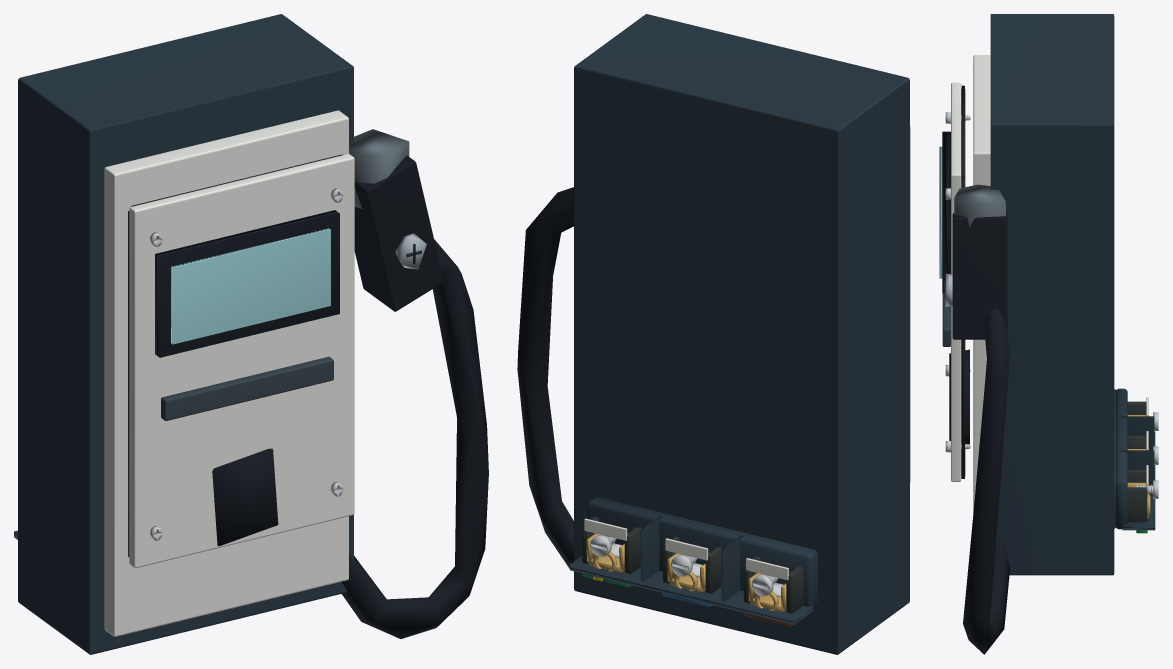
The picture shows the model from 3 angles, left to right: view 1: azimuth 30°, elevation 25°; view 2: azimuth 150°, elevation 25°; view 3: azimuth 270°, elevation 25°; orthographic projection. The views are drawn at different scales.
Parts seen in each view (by area): view 1: part:body, part:cover, part:display, part:body.001, part:body.002, detail:enclosure-gasket-and-fixings · Detail rubber gasket; view 2: part:body, part:body.001, part:terminals · Original a463fd81, detail:terminal-clamp:L · Detail moulded engineering polymer, detail:terminal-clamp:N · Detail moulded engineering polymer, detail:terminal-clamp:PE · Detail moulded engineering polyme, detail:terminal-clamp:N · Detail machined brass, detail:terminal-clamp:L · Detail machined brass, detail:terminal-clamp:PE · Detail machined brass, Moulded terminal legend pad.001, Moulded terminal legend pad.002, Moulded terminal legend pad; view 3: part:body, part:body.001, part:body.002, part:terminals · Original a463fd81, part:cover, part:display, detail:enclosure-gasket-and-fixings · Detail rubber gasket, detail:terminal-clamp:PE · Detail moulded engineering polyme, detail:enclosure-gasket-and-fixings · Detail zinc plated fix.
Part boxes in pixels (<box>): part:body: <box>18,14,353,654</box>; part:cover: <box>129,154,354,568</box>; part:display: <box>155,210,339,357</box>; part:body.001: <box>341,239,488,638</box>; part:body.002: <box>349,129,443,311</box>; detail:enclosure-gasket-and-fixings · Detail rubber gasket: <box>128,154,342,556</box>; part:body: <box>574,14,909,654</box>; part:body.001: <box>517,187,573,568</box>; part:terminals · Original a463fd81: <box>570,497,817,624</box>; detail:terminal-clamp:L · Detail moulded engineering polymer: <box>743,556,803,613</box>; detail:terminal-clamp:N · Detail moulded engineering polymer: <box>663,536,722,594</box>; detail:terminal-clamp:PE · Detail moulded engineering polyme: <box>582,516,641,574</box>; detail:terminal-clamp:N · Detail machined brass: <box>667,553,705,592</box>; detail:terminal-clamp:L · Detail machined brass: <box>748,573,786,611</box>; detail:terminal-clamp:PE · Detail machined brass: <box>586,533,624,572</box>; Moulded terminal legend pad.001: <box>665,538,708,560</box>; Moulded terminal legend pad.002: <box>584,518,627,540</box>; Moulded terminal legend pad: <box>746,558,788,580</box>; part:body: <box>949,14,1114,575</box>; part:body.001: <box>963,309,1009,654</box>; part:body.002: <box>945,184,1007,339</box>; part:terminals · Original a463fd81: <box>1114,388,1155,530</box>; part:cover: <box>942,82,961,481</box>; part:display: <box>939,131,950,293</box>; detail:enclosure-gasket-and-fixings · Detail rubber gasket: <box>961,85,965,478</box>; detail:terminal-clamp:PE · Detail moulded engineering polyme: <box>1127,469,1147,522</box>; detail:enclosure-gasket-and-fixings · Detail zinc plated fix: <box>945,112,970,452</box>.
Bounding box in the file's own units: 1.07 × 1.51 × 0.6009.
